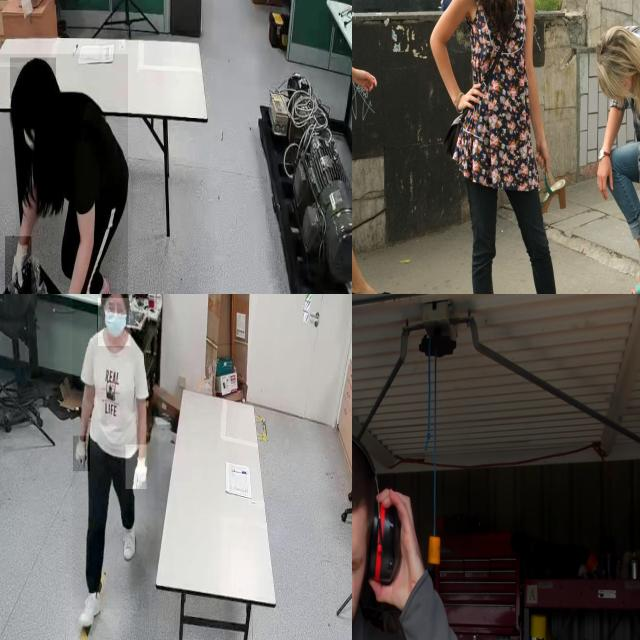Ear-protection: (352, 424, 406, 640)
No_Glasses: (352, 531, 364, 584)
face_mask: (98, 298, 130, 346)
hand_glove: (5, 236, 32, 294), (125, 444, 147, 490), (73, 436, 91, 472)
head_nohelmet: (10, 58, 56, 100)
person: (352, 419, 500, 640), (0, 54, 128, 294), (72, 294, 159, 609)
shoes: (75, 588, 103, 634), (120, 516, 138, 562)
